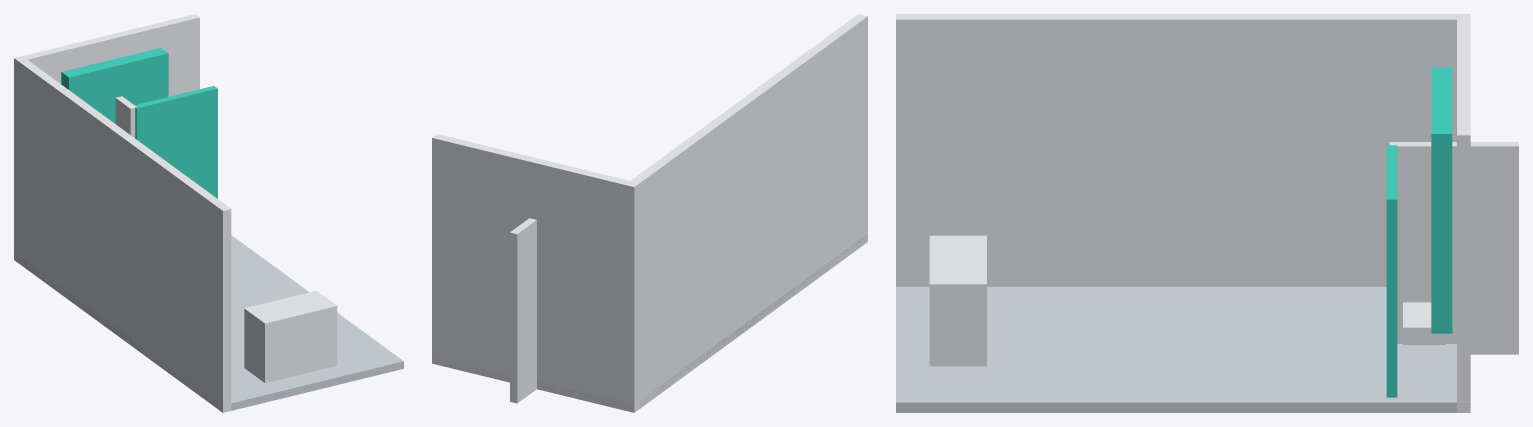
3 views of the same model, side by side, from view 1: azimuth 30°, elevation 25°; view 2: azimuth 150°, elevation 25°; view 3: azimuth 270°, elevation 25° (orthographic). The views are drawn at different scales.
Visible parts, largest first — view 1: Exhibition Booth Concept; view 2: Exhibition Booth Concept; view 3: Exhibition Booth Concept.
Boxes of the visible parts, x1,y1,x2,y2 form: Exhibition Booth Concept: (14,14,403,412); Exhibition Booth Concept: (432,14,867,412); Exhibition Booth Concept: (896,14,1518,412).
Size of the model in its own units: 3 by 3.2 by 6.51.
